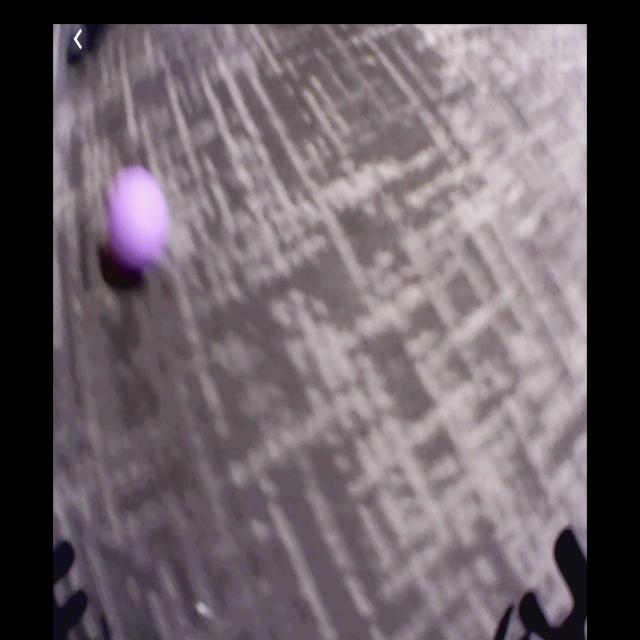ball: (107, 170, 170, 267)
